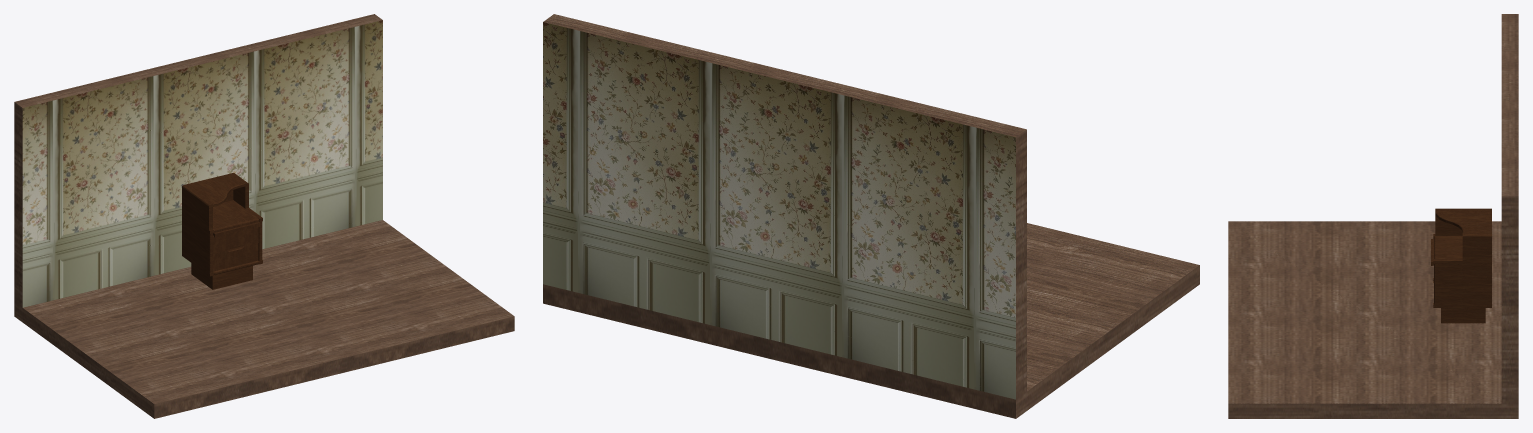
Rendered from bedside_table.glb.
3 views of the same model, side by side, from view 1: azimuth 30°, elevation 25°; view 2: azimuth 150°, elevation 25°; view 3: azimuth 270°, elevation 25° (orthographic). The views are drawn at different scales.
Visible parts, largest first — view 1: Wall, Bedsisde Table 2, Cube.005, Cube.004; view 2: Wall; view 3: Wall, Bedsisde Table 2.
Part boxes in pixels (box(x1,y1,x2,y2)): Wall: box(14, 14, 514, 418); Bedsisde Table 2: box(182, 173, 262, 289); Cube.005: box(213, 243, 258, 271); Cube.004: box(213, 227, 258, 253); Wall: box(543, 14, 1199, 418); Wall: box(1228, 14, 1518, 418); Bedsisde Table 2: box(1433, 208, 1491, 323).
Bounding box in the file's own units: 16.87 × 9.6 × 11.36.
Materials: 4 (4 with a texture image).
